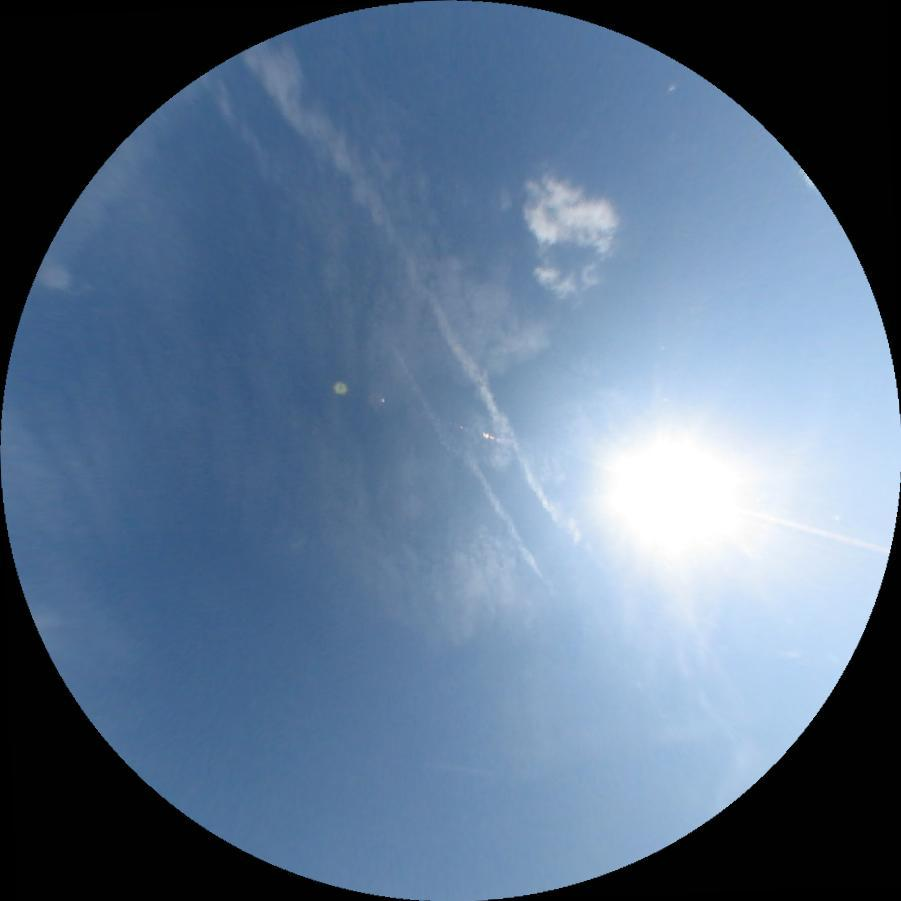contrail veryold: (241, 29, 606, 549), (378, 343, 553, 579)
contrail young: (426, 763, 488, 773)
parasite: (748, 500, 891, 545)
sun: (602, 409, 766, 570)
